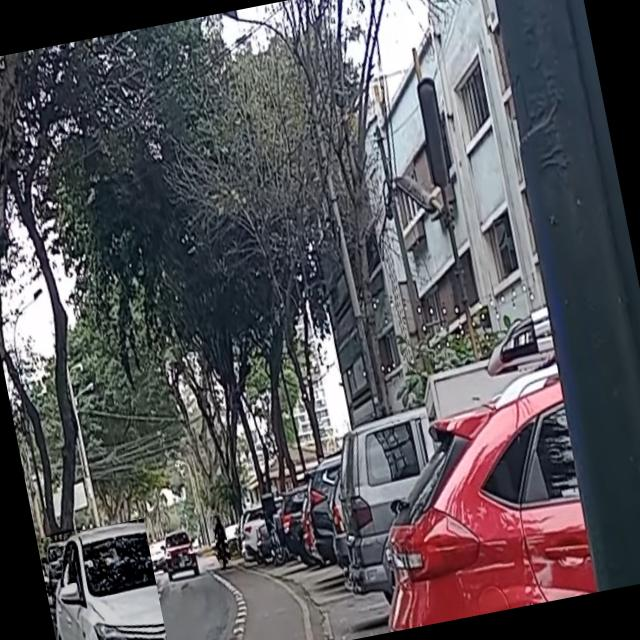bicycle: (210, 514, 232, 570)
car: (37, 518, 174, 640), (158, 527, 202, 582)
